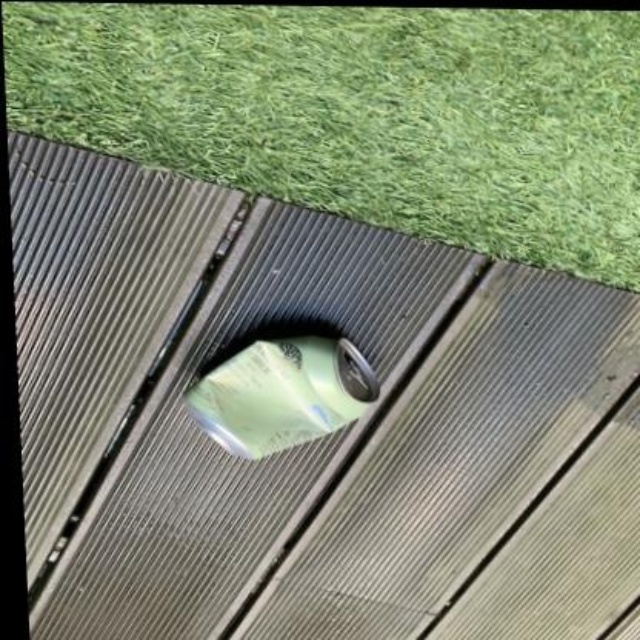trash: (185, 335, 378, 458)
